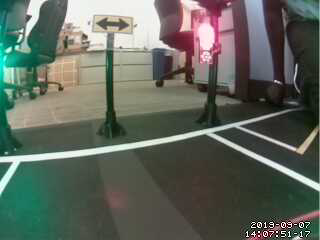Left_Right_sign: (94, 16, 134, 36)
Traffic_light_red: (198, 23, 215, 57)
